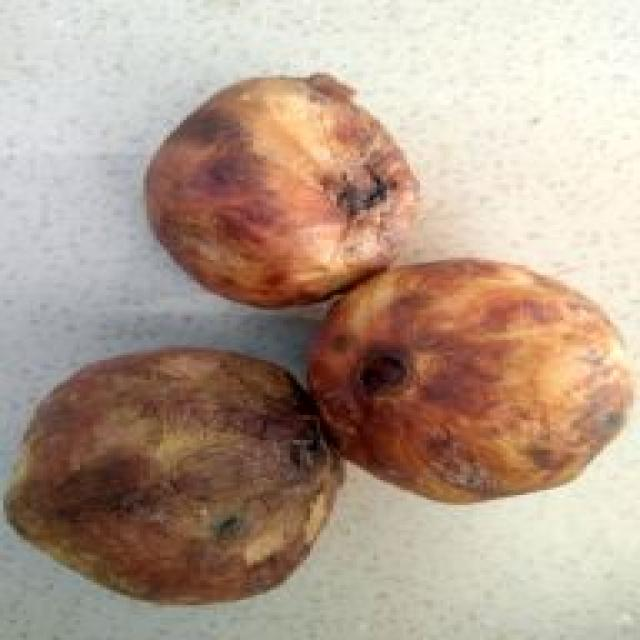Bad_Guava: (7, 348, 343, 603), (145, 74, 418, 307)
